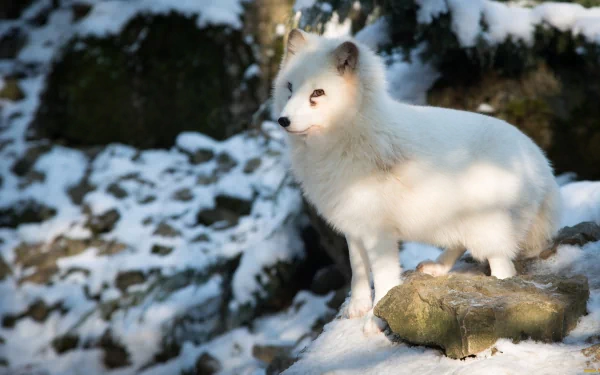arcticfox: (266, 48, 361, 158)
